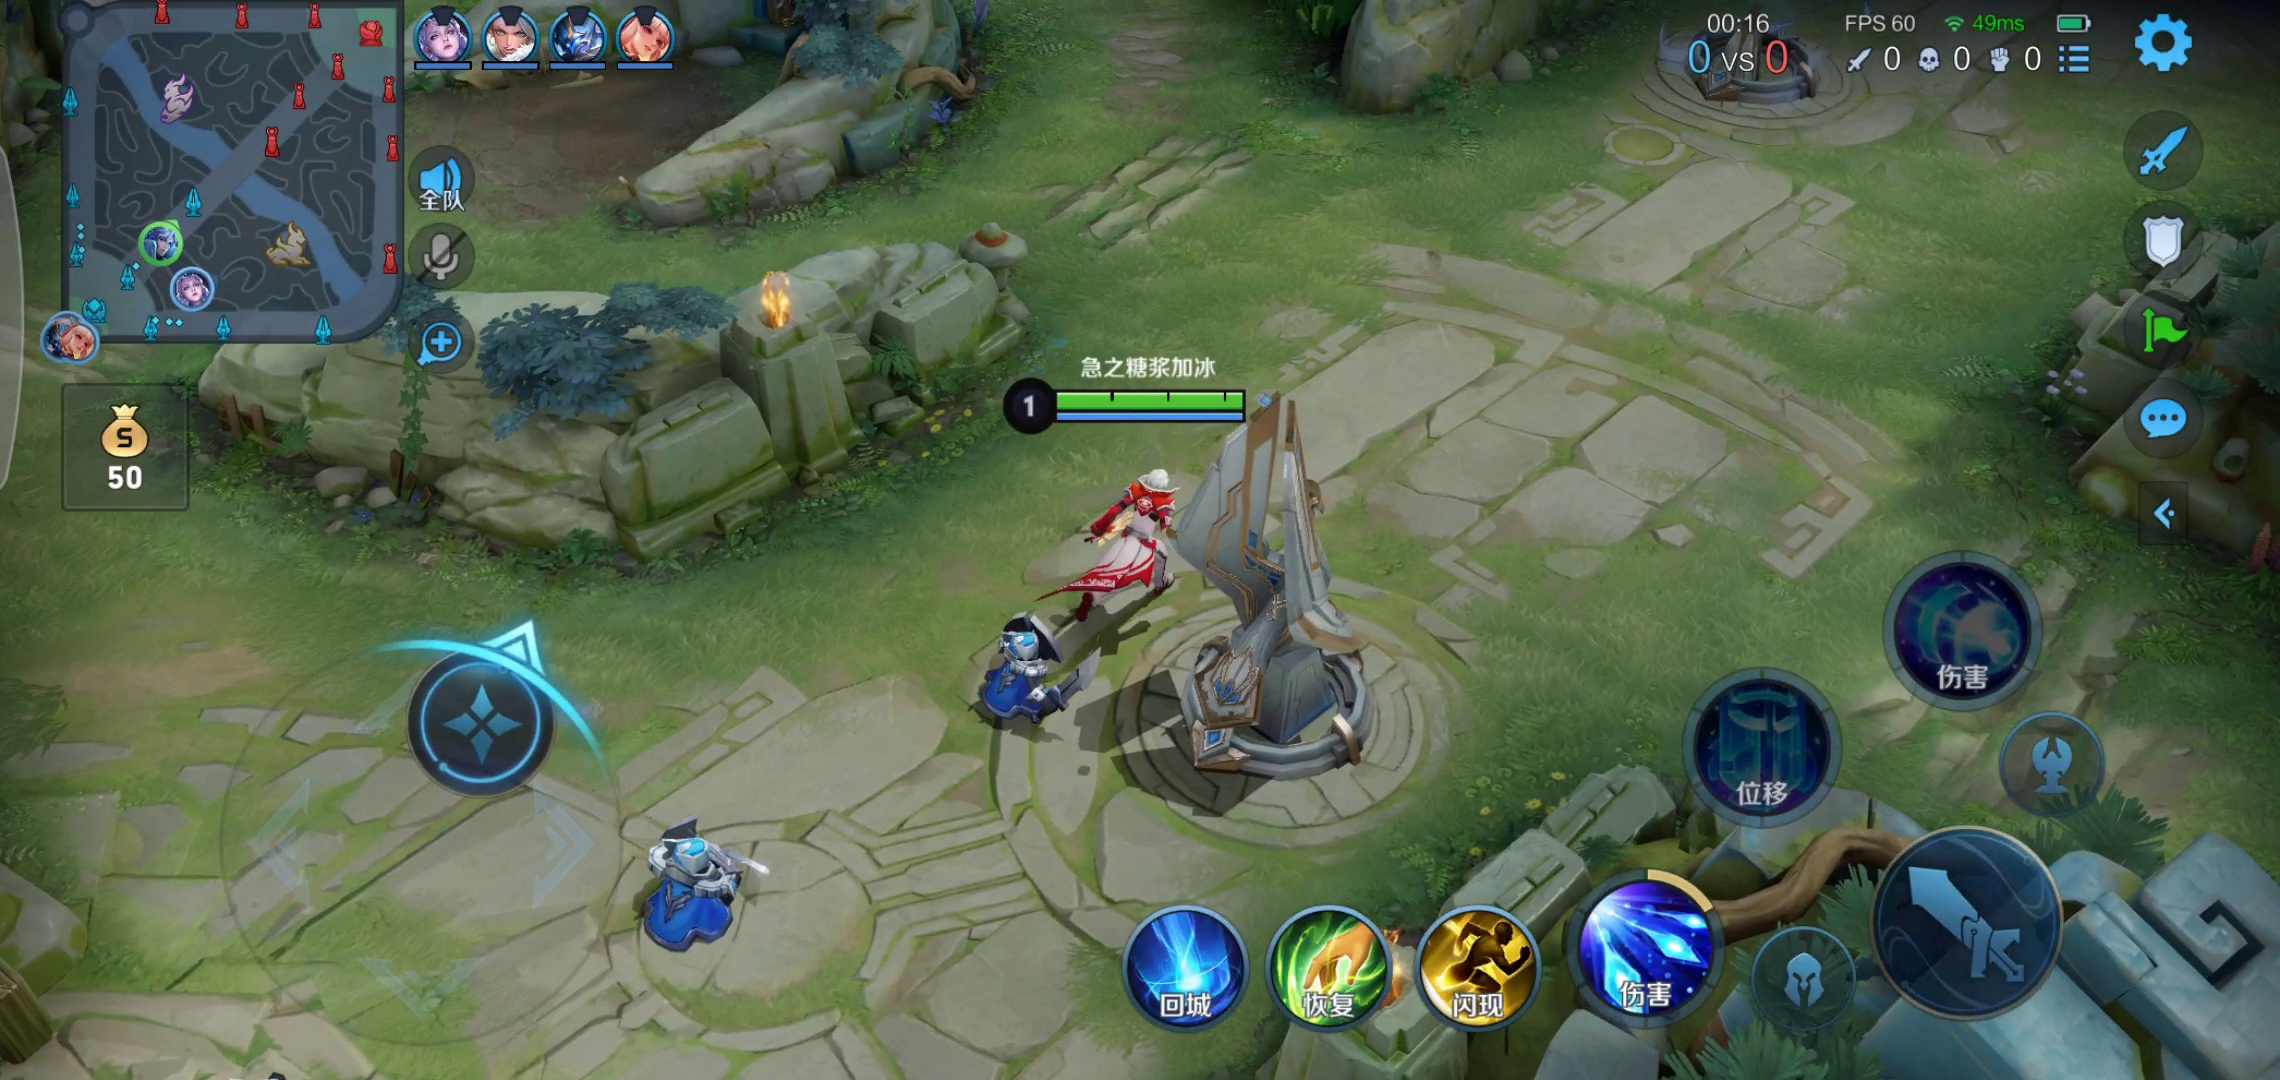hero: (1064, 464, 1185, 608)
soldier: (606, 818, 775, 955), (976, 610, 1104, 738)
tower: (1176, 410, 1384, 776), (1666, 16, 1834, 113)
